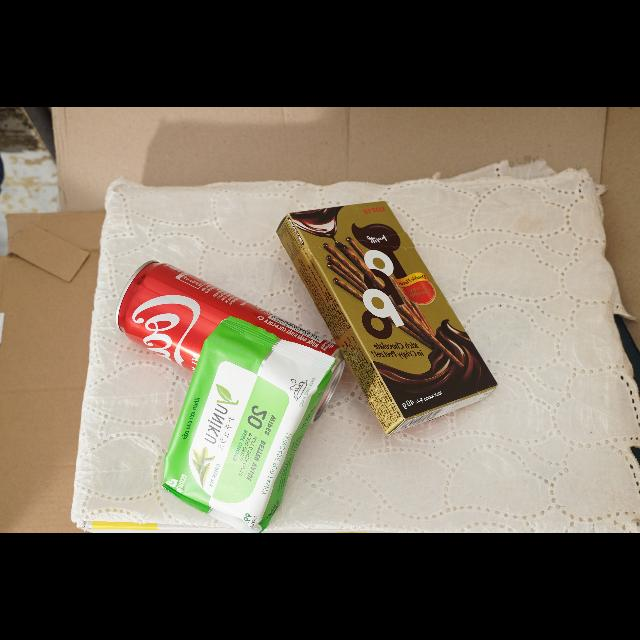banh_toppo_socola: (277, 201, 497, 434)
coca_cola: (117, 262, 337, 371)
khan_giay: (161, 317, 337, 534)
